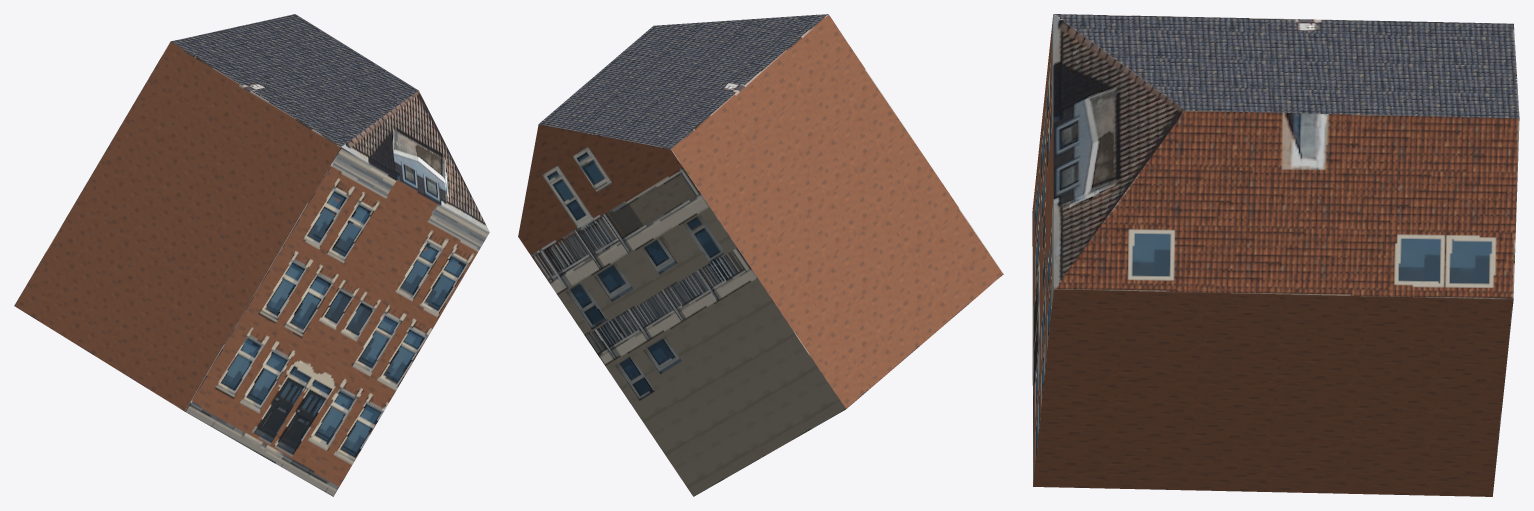
3 views of the same model, side by side, from view 1: azimuth 30°, elevation 25°; view 2: azimuth 150°, elevation 25°; view 3: azimuth 270°, elevation 25° (orthographic). The views are drawn at different scales.
Visible parts, largest first — view 1: BAG_0599100000760394; view 2: BAG_0599100000760394 (×2); view 3: BAG_0599100000760394 (×2).
Part boxes in pixels (x1,y1,x2,y2): BAG_0599100000760394: (14,14,489,496); BAG_0599100000760394 (×2): (518,14,1003,496); BAG_0599100000760394 (×2): (1032,14,1519,496).
Size of the model in its own units: 13.42 by 14.07 by 12.44.
Materials: 1 (1 with a texture image).
